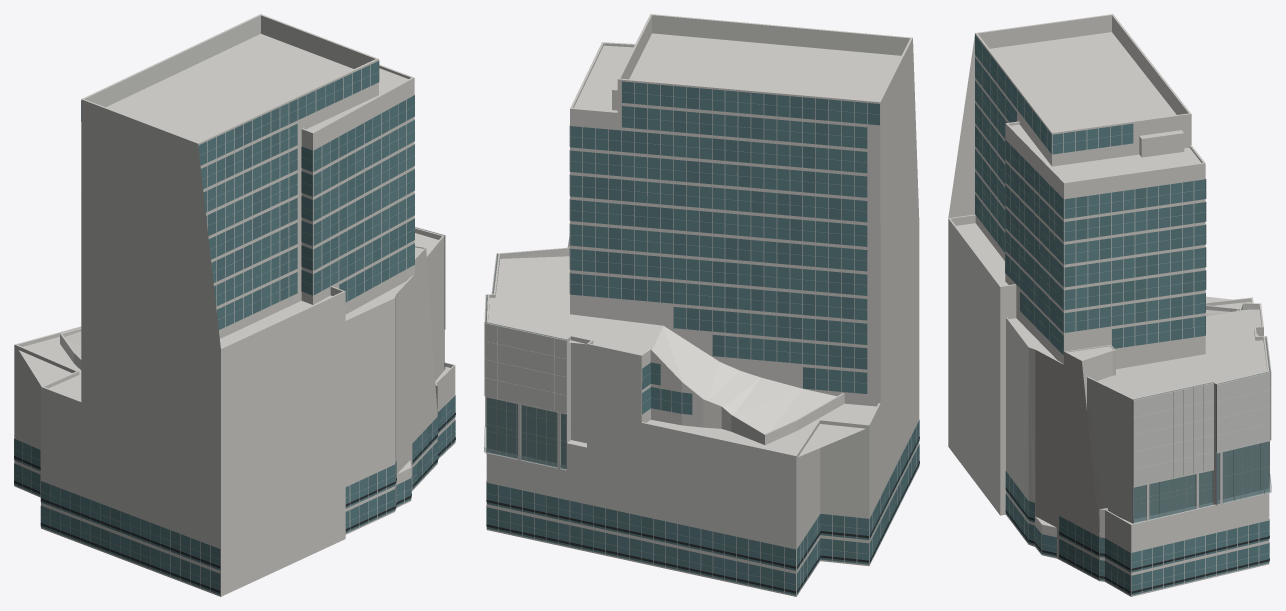
File: prior.glb
3 renders of one model, left to right at view 1: azimuth 30°, elevation 25°; view 2: azimuth 150°, elevation 25°; view 3: azimuth 270°, elevation 25°, orthographic. The views are drawn at different scales.
Parts seen in each view (by area): view 1: parco_wall, parco_roof, parco_glass0, parco_glass2, parco_glass1, parco_frame, parco_sign_housing; view 2: parco_wall, parco_roof, parco_glass0, parco_glass2, parco_glass1, parco_frame, parco_podium_cladding, parco_podium_glass, parco_sign_housing, parco_podium_joint, parco_spandrel; view 3: parco_wall, parco_roof, parco_glass2, parco_glass1, parco_glass0, parco_podium_cladding, parco_podium_glass, parco_frame, parco_podium_joint, parco_sign_housing, parco_spandrel, parco_podium_rail_glass.
Boxes of the visible parts, <box> form: parco_wall: <box>14,15,455,596</box>; parco_roof: <box>14,14,454,474</box>; parco_glass0: <box>14,69,455,594</box>; parco_glass2: <box>23,73,450,591</box>; parco_glass1: <box>14,61,455,587</box>; parco_frame: <box>14,60,455,591</box>; parco_sign_housing: <box>14,413,455,592</box>; parco_wall: <box>486,15,919,596</box>; parco_roof: <box>486,14,912,456</box>; parco_glass0: <box>487,81,919,592</box>; parco_glass2: <box>499,90,916,595</box>; parco_glass1: <box>486,82,913,594</box>; parco_frame: <box>486,82,919,592</box>; parco_podium_cladding: <box>484,253,566,470</box>; parco_podium_glass: <box>486,397,566,468</box>; parco_sign_housing: <box>486,437,919,593</box>; parco_podium_joint: <box>484,253,566,469</box>; parco_spandrel: <box>487,123,919,595</box>; parco_wall: <box>948,15,1269,596</box>; parco_roof: <box>948,14,1269,533</box>; parco_glass2: <box>975,40,1215,577</box>; parco_glass1: <box>975,35,1269,591</box>; parco_glass0: <box>975,55,1269,595</box>; parco_podium_cladding: <box>1133,336,1271,523</box>; parco_podium_glass: <box>1133,441,1269,522</box>; parco_frame: <box>975,45,1268,592</box>; parco_podium_joint: <box>1132,336,1271,523</box>; parco_sign_housing: <box>1005,487,1269,593</box>; parco_spandrel: <box>1005,136,1267,593</box>; parco_podium_rail_glass: <box>1134,476,1271,523</box>.
Size of the model in its own units: 95.32 by 101 by 72.5.
